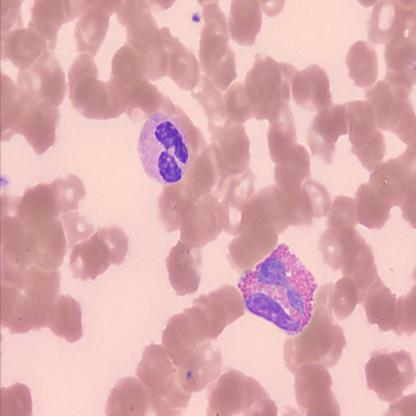Eosinophil: (236, 241, 314, 335)
